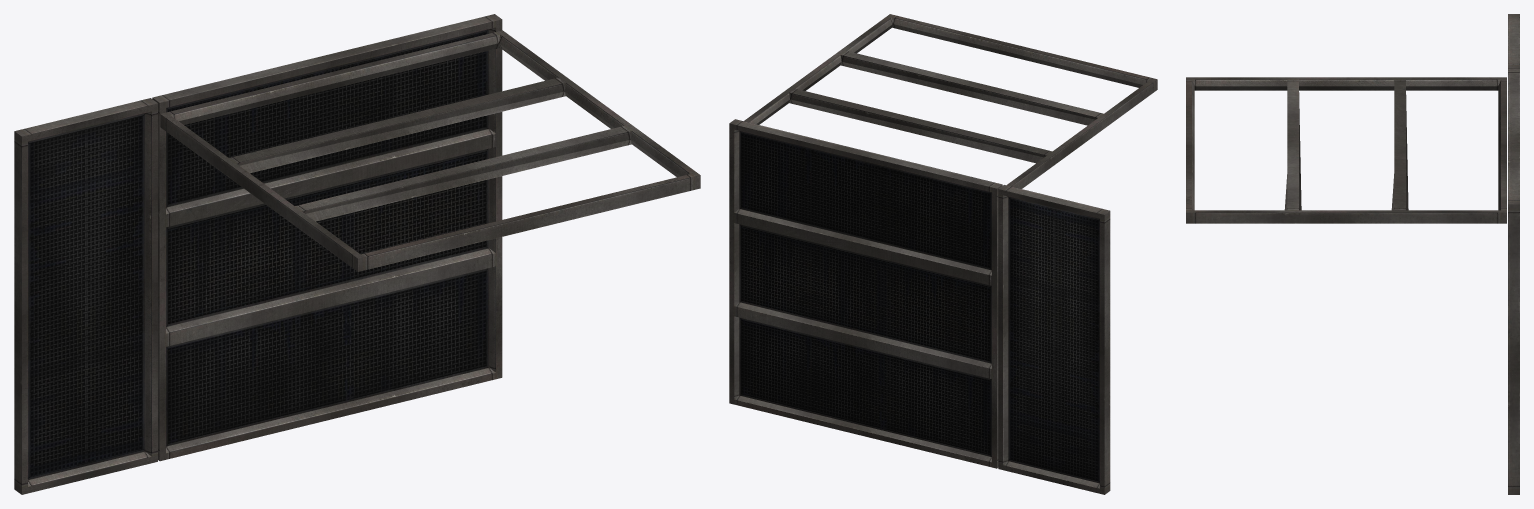
File: gater.FBX
3 renders of one model, left to right at view 1: azimuth 30°, elevation 25°; view 2: azimuth 150°, elevation 25°; view 3: azimuth 270°, elevation 25°, orthographic. The views are drawn at different scales.
Parts seen in each view (by area): view 1: Plane001, Plane002, Plane003; view 2: Plane001, Plane002, Plane003; view 3: Plane003, Plane001, Plane002.
Boxes of the visible parts, x1,y1,x2,y2 form: Plane001: [152, 14, 502, 461]; Plane002: [14, 98, 157, 494]; Plane003: [160, 30, 700, 271]; Plane001: [729, 119, 1002, 468]; Plane002: [998, 185, 1110, 494]; Plane003: [744, 14, 1157, 188]; Plane003: [1186, 77, 1506, 223]; Plane001: [1508, 68, 1519, 494]; Plane002: [1508, 14, 1519, 68].
Size of the model in its own units: 110 by 78.74 by 81.91.
